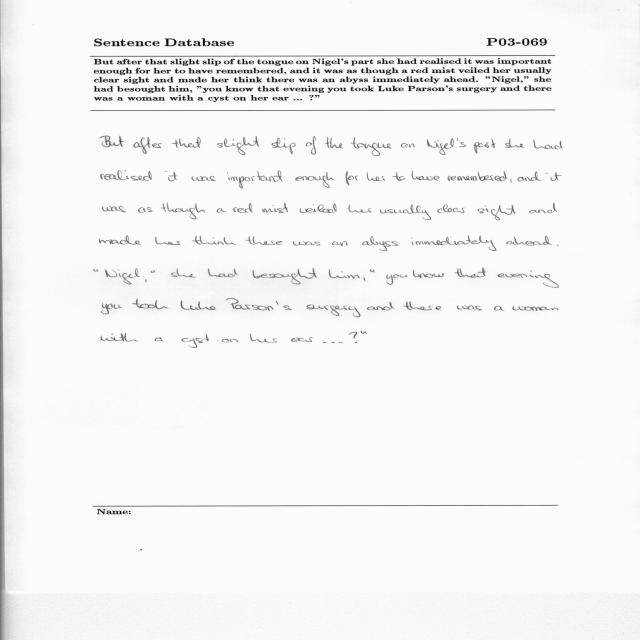word: (411, 236, 496, 251), (498, 270, 559, 288), (252, 268, 317, 284), (227, 171, 283, 189), (226, 298, 292, 311), (380, 204, 431, 220), (217, 136, 259, 155), (350, 138, 392, 156), (161, 203, 205, 219), (427, 138, 467, 155), (307, 305, 361, 317), (295, 172, 334, 188), (448, 172, 508, 182), (105, 268, 140, 285), (478, 205, 516, 220), (101, 170, 152, 181), (363, 236, 399, 251), (134, 137, 163, 154), (506, 236, 552, 246), (182, 333, 210, 348), (132, 299, 169, 310), (192, 236, 236, 245), (272, 138, 296, 154), (300, 204, 338, 214), (99, 236, 141, 245), (180, 300, 216, 310), (474, 138, 496, 154), (245, 236, 283, 245), (101, 333, 139, 342), (404, 301, 441, 310), (454, 268, 487, 278), (172, 137, 201, 148), (329, 269, 360, 279), (412, 170, 440, 181), (534, 140, 563, 150), (529, 203, 557, 213), (413, 269, 444, 278), (208, 268, 238, 277), (250, 333, 277, 343), (100, 136, 124, 147), (262, 203, 288, 213), (437, 204, 465, 213), (517, 172, 542, 182), (386, 274, 408, 285), (513, 306, 559, 311), (102, 304, 122, 315), (171, 269, 195, 278), (367, 302, 394, 310), (324, 137, 343, 148), (233, 203, 253, 213), (155, 237, 180, 245), (306, 136, 316, 155), (349, 205, 372, 213), (505, 139, 525, 148), (367, 172, 386, 181), (346, 171, 358, 185), (545, 172, 562, 181), (103, 206, 125, 212), (457, 306, 482, 311), (165, 171, 177, 181), (192, 176, 216, 181), (392, 172, 405, 181), (291, 337, 313, 342), (293, 241, 320, 245), (138, 207, 153, 213), (349, 332, 357, 343), (332, 241, 348, 246), (401, 143, 415, 148), (494, 306, 504, 311), (222, 339, 238, 342), (217, 208, 226, 213), (154, 338, 164, 342), (322, 342, 343, 343), (370, 269, 375, 273), (361, 331, 367, 334), (94, 269, 99, 272), (151, 270, 155, 273), (510, 179, 512, 183), (364, 277, 366, 281), (145, 279, 147, 282), (557, 245, 559, 246)
